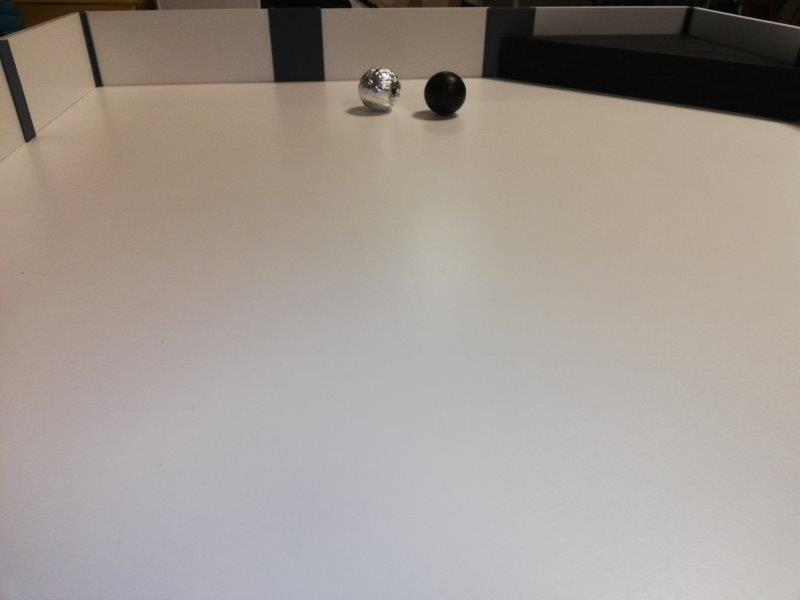bianca: (358, 66, 403, 111)
nera: (423, 69, 466, 114)
